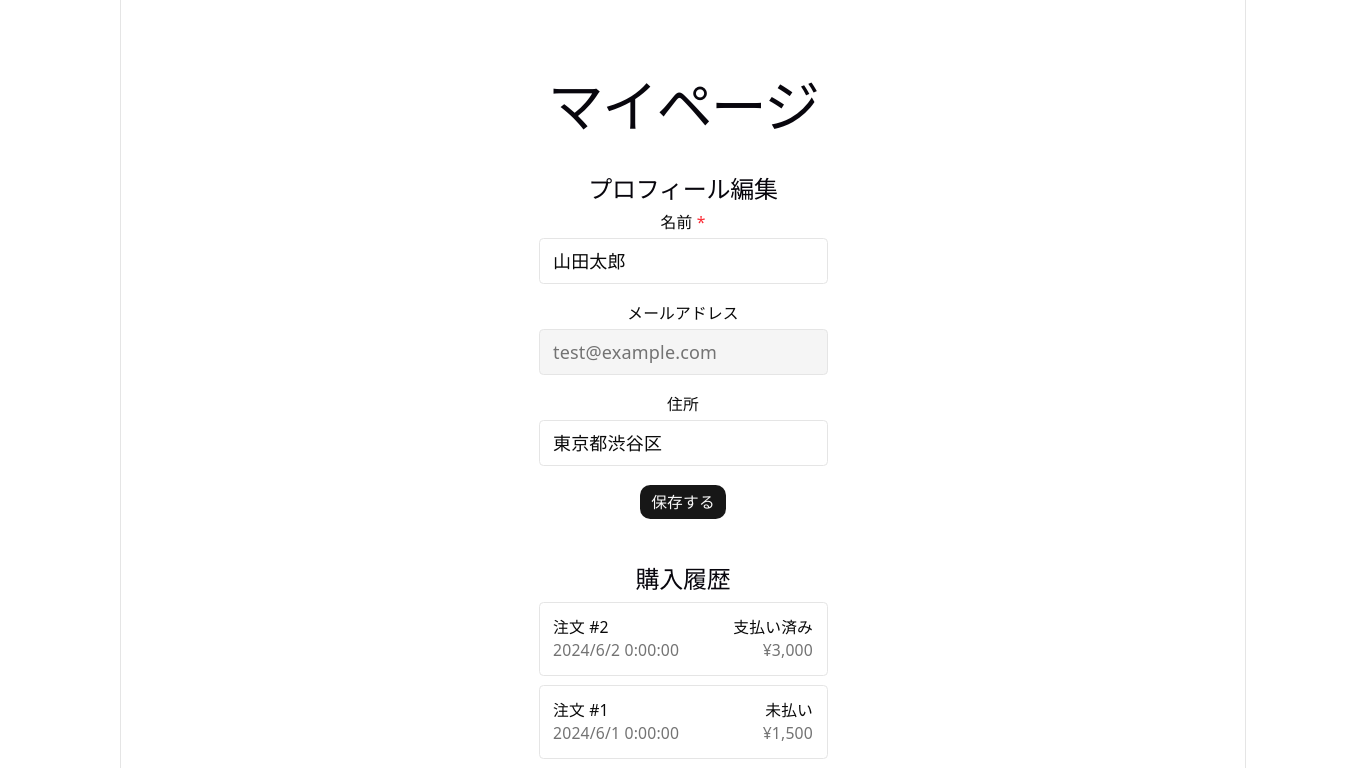
Test case: MyPage › プロフィール保存成功時に成功メッセージが表示されること
The width and height of the screenshot is (1366, 768).
Replace the text in the field showing "山田太郎" below "名前" with "新しい名前": coordinates (683, 261) [538,238,828,284]
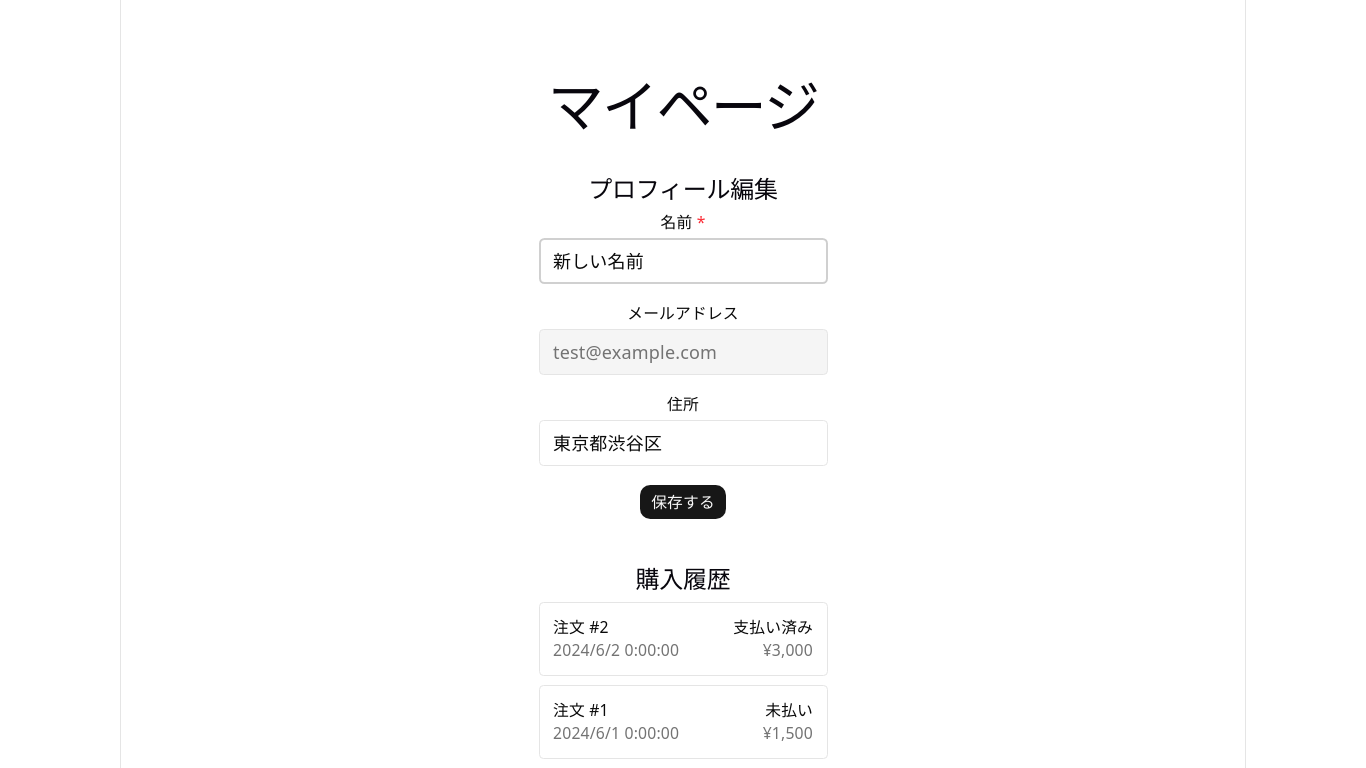
Click the button "保存する": coordinates (683, 502) [639,484,727,520]
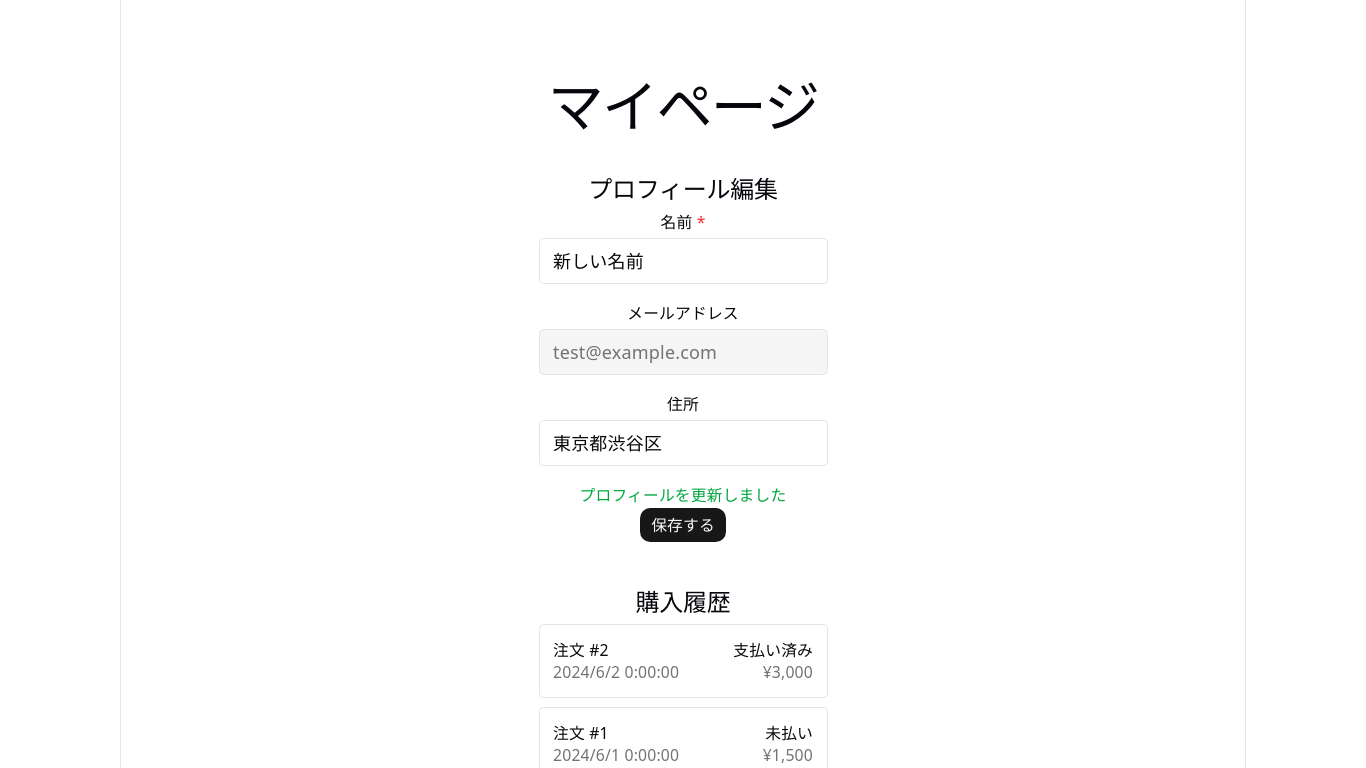
Expected: the text "プロフィールを更新しました" is shown, [580,484,786,506]
